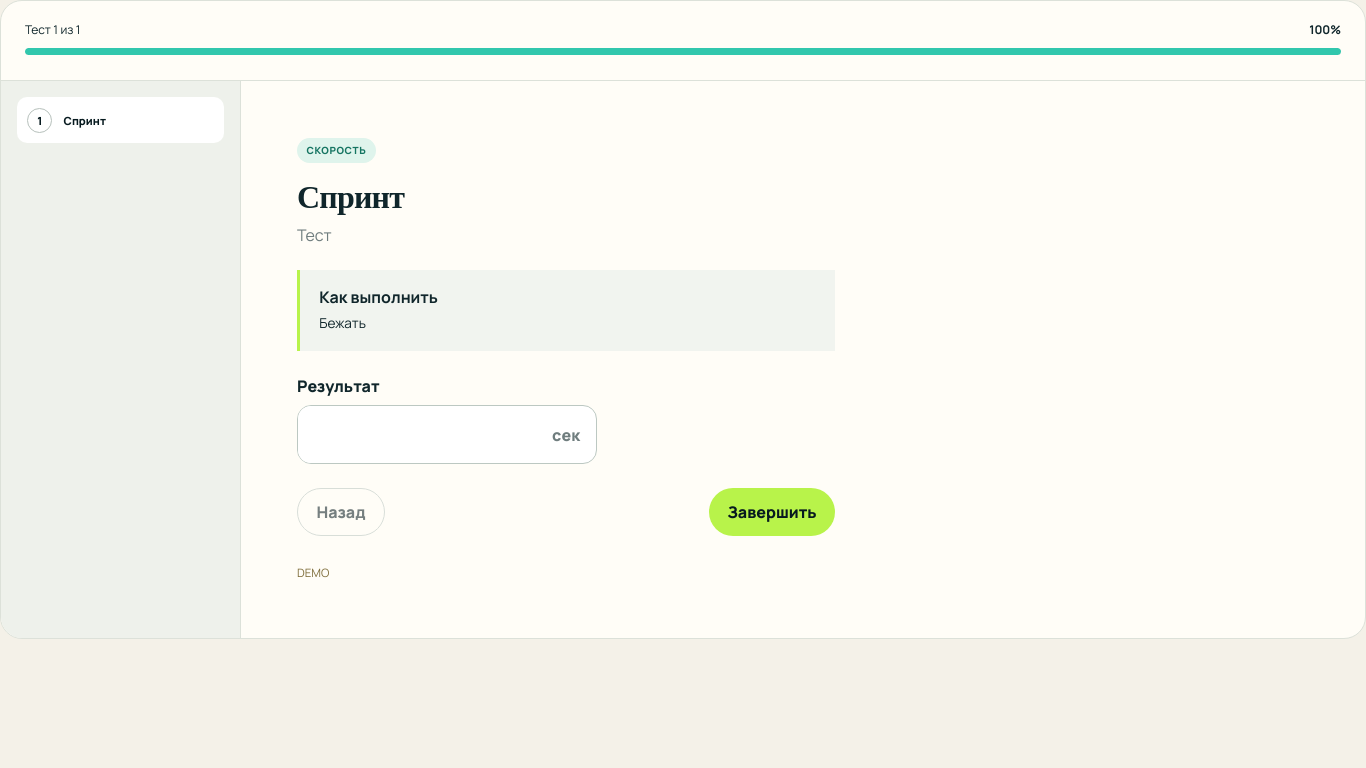
Test: critical workflows › rejects out-of-range assessment result
Type "20" into the number field named "Результат: Спринт" at [425, 434], box left=298, top=406, right=552, bottom=463
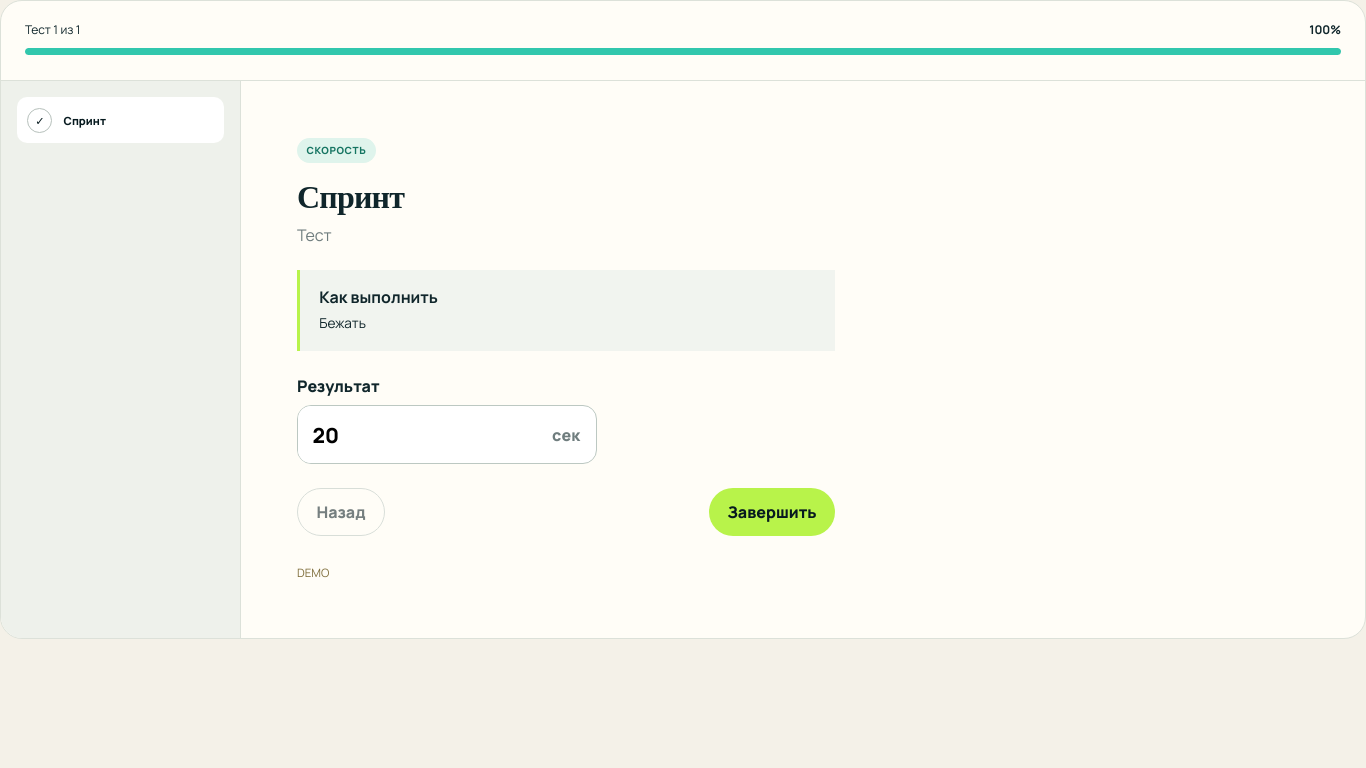
Click the button "Завершить" at [772, 512], box left=709, top=488, right=835, bottom=536
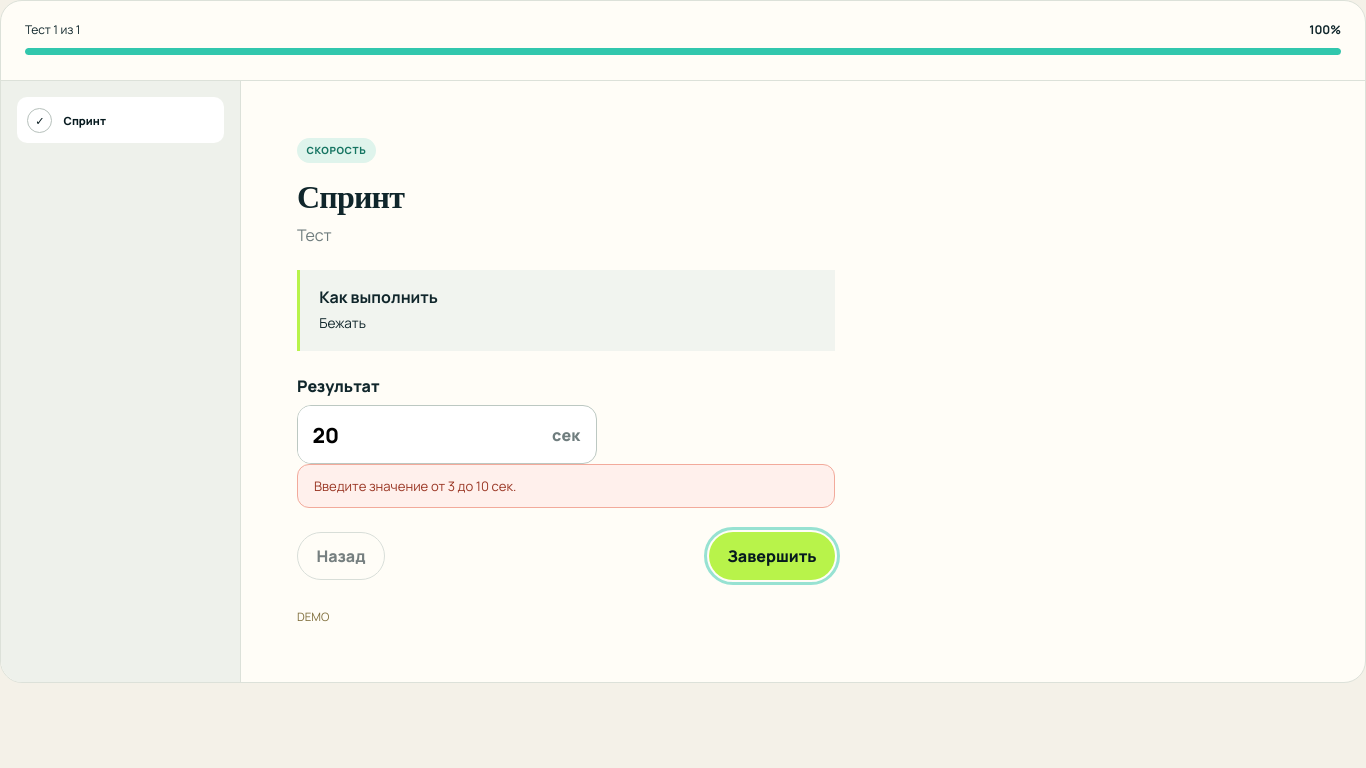
Check: the message shows "от 3 до 10", box left=314, top=477, right=516, bottom=495
